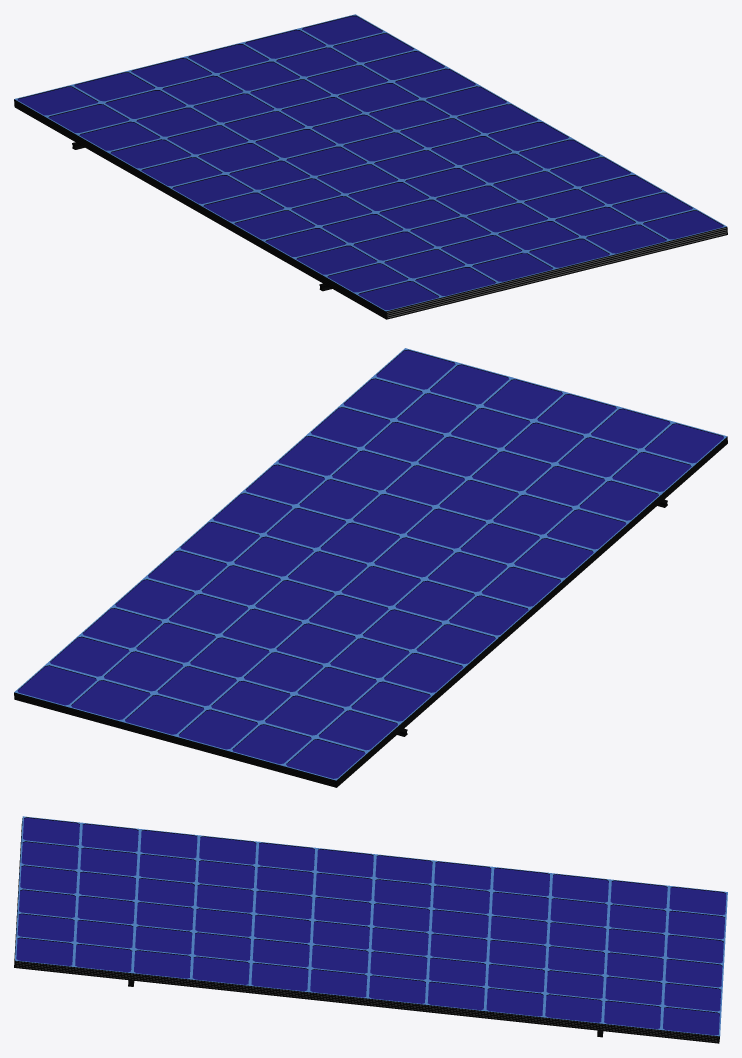
File: solarpanel.gltf
3 renders of one model, top to bottom at view 1: azimuth 30°, elevation 25°; view 2: azimuth 150°, elevation 25°; view 3: azimuth 270°, elevation 25°, orthographic. The views are drawn at different scales.
Visible parts, largest first — view 1: Cube.002; view 2: Cube.002; view 3: Cube.002.
Part boxes in pixels (<box>): Cube.002: <box>14,14,727,319</box>; Cube.002: <box>14,348,727,787</box>; Cube.002: <box>14,816,727,1043</box>.
Bounding box in the file's own units: 1.05 × 0.2517 × 2.01.
